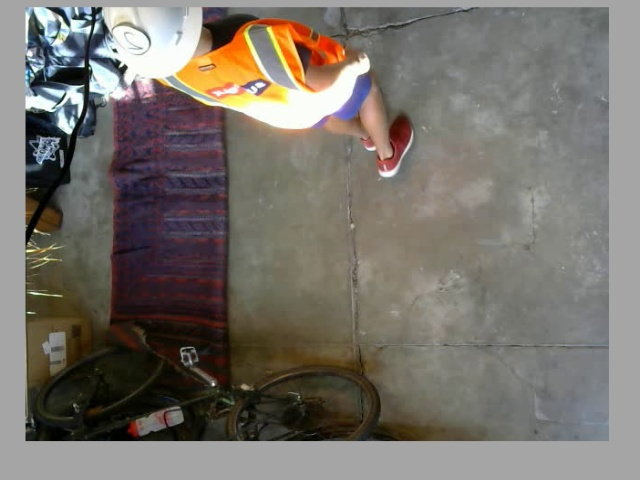two: (111, 23, 149, 55)
